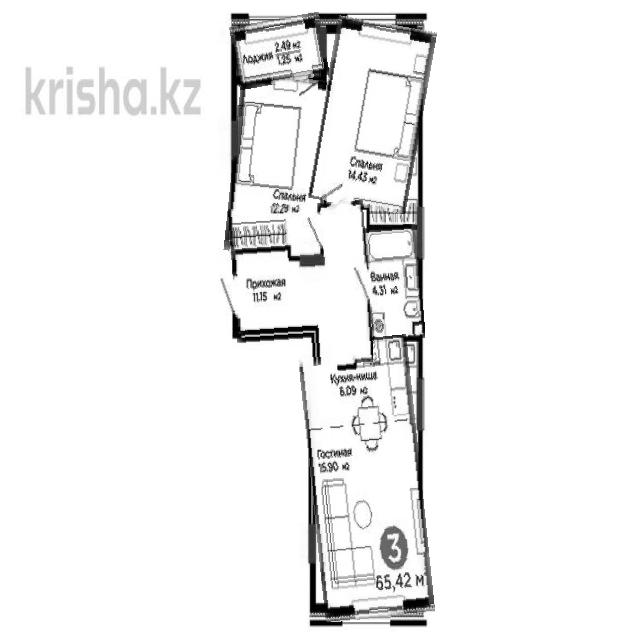balcony: (232, 16, 327, 86)
bathroom: (366, 224, 423, 341)
hallway: (231, 200, 373, 362)
living_room: (315, 18, 430, 210), (228, 74, 331, 257)
studio: (304, 337, 428, 620)
